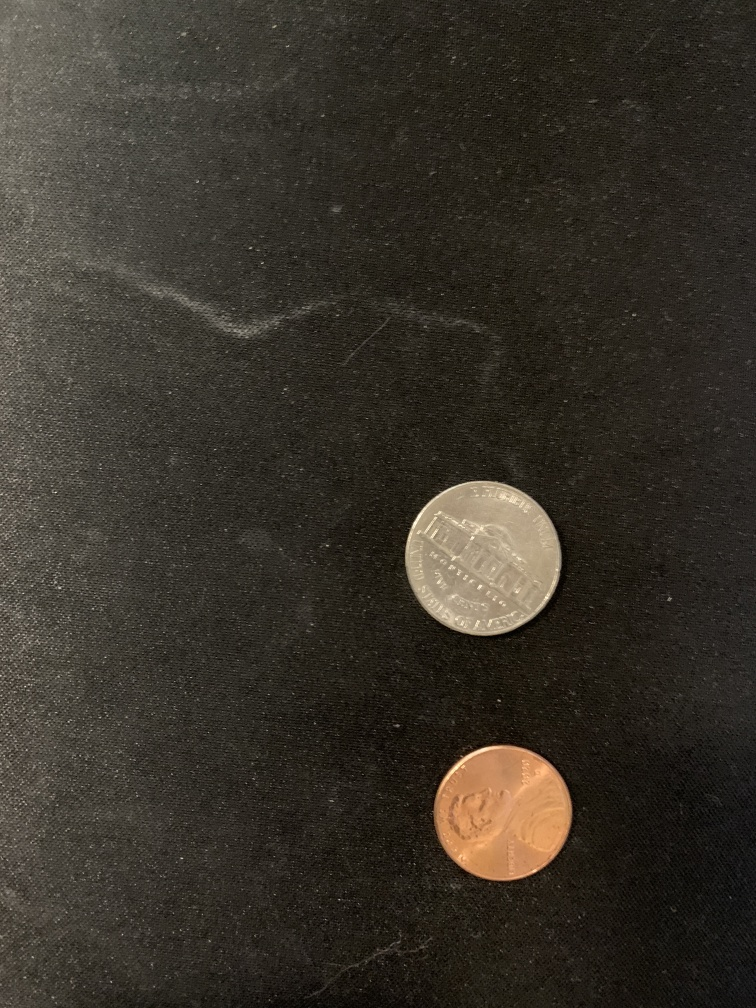nickel: (398, 475, 567, 640)
penny: (429, 739, 583, 889)
